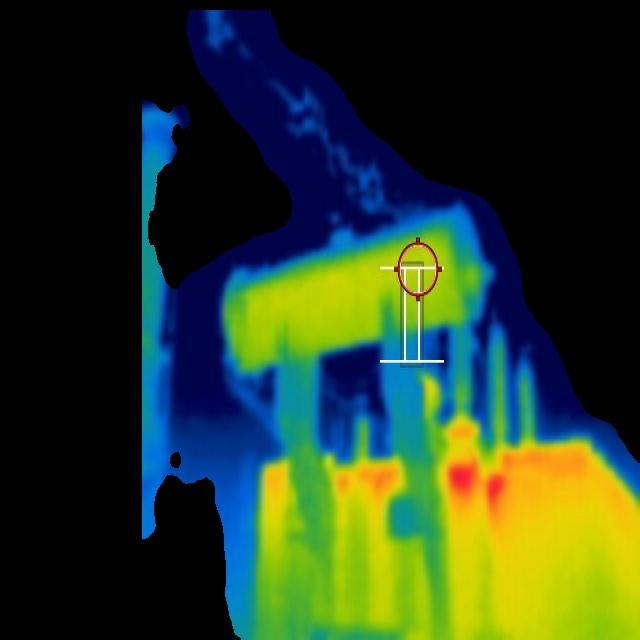Transformer Overload: (258, 424, 638, 636)
